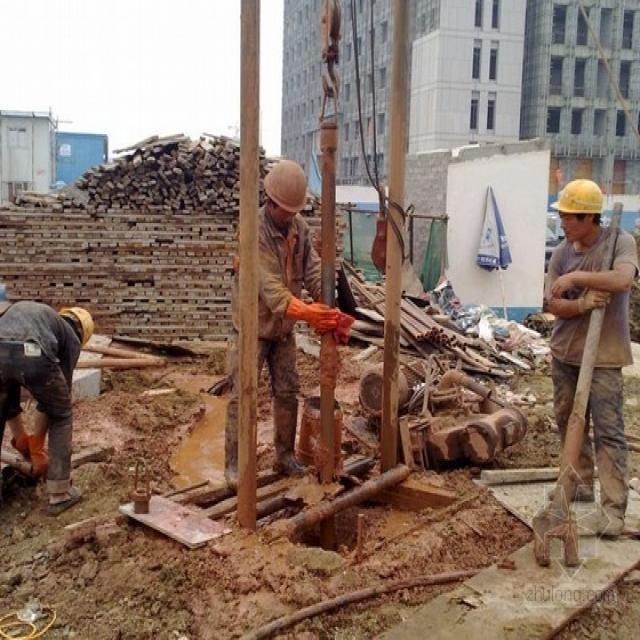Con_Casco: (555, 179, 605, 239), (62, 304, 95, 353)
